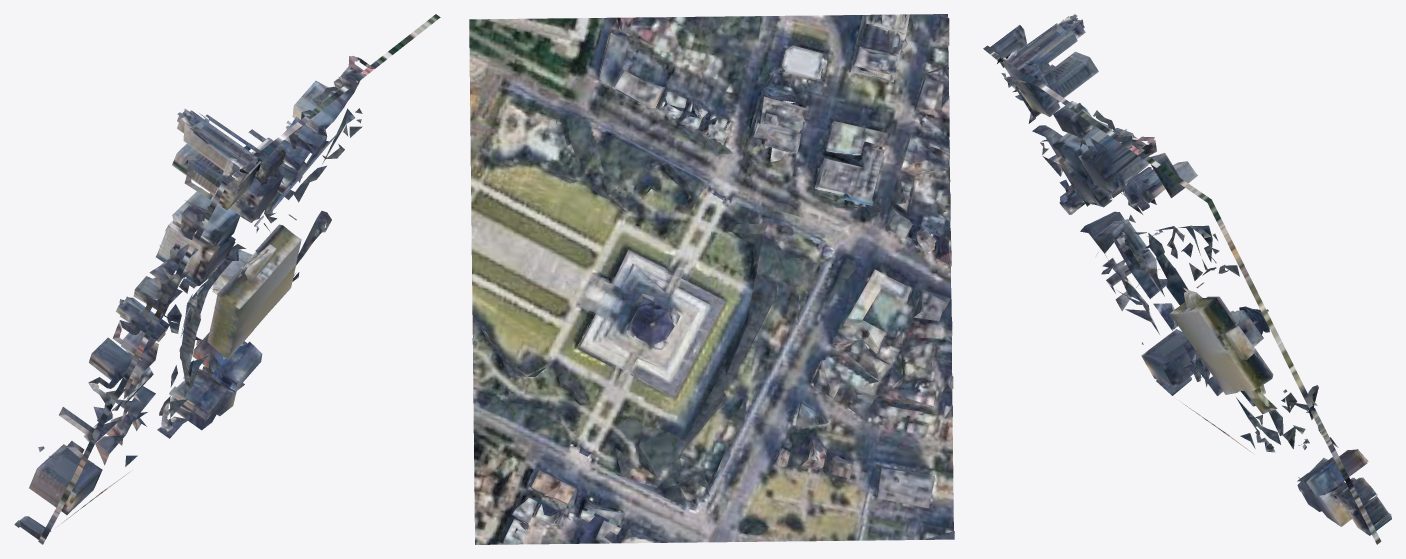
The picture shows the model from 3 angles, left to right: view 1: azimuth 30°, elevation 25°; view 2: azimuth 150°, elevation 25°; view 3: azimuth 270°, elevation 25°; orthographic projection. The views are drawn at different scales.
Size of the model in its own units: 629 by 606 by 529.
1 material, 1 textured.
